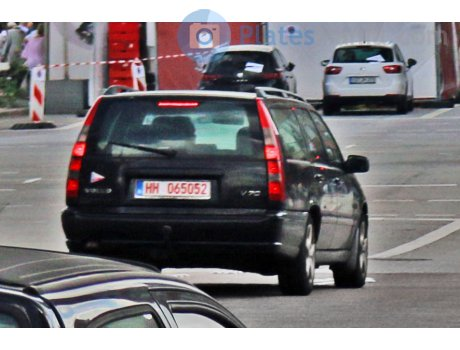License Plates: (144, 176, 212, 191)
